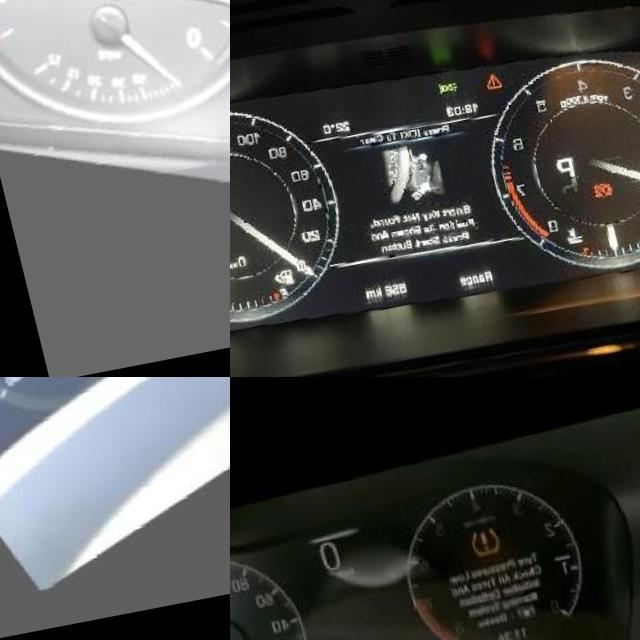High Engine Coolant Temperature: (545, 242, 564, 261)
